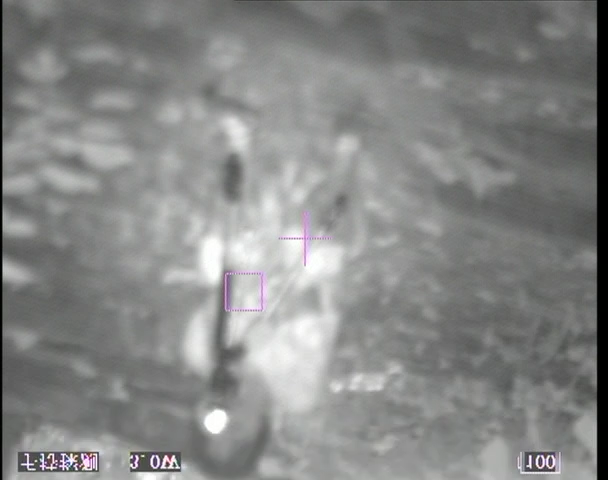my: (202, 406, 230, 434)
